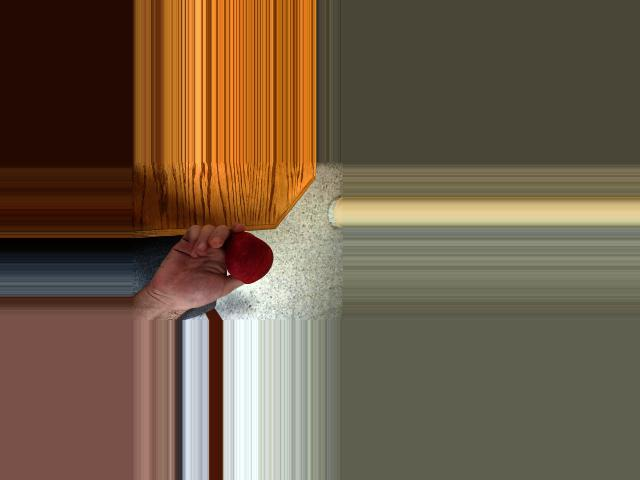apple: (226, 234, 273, 283)
